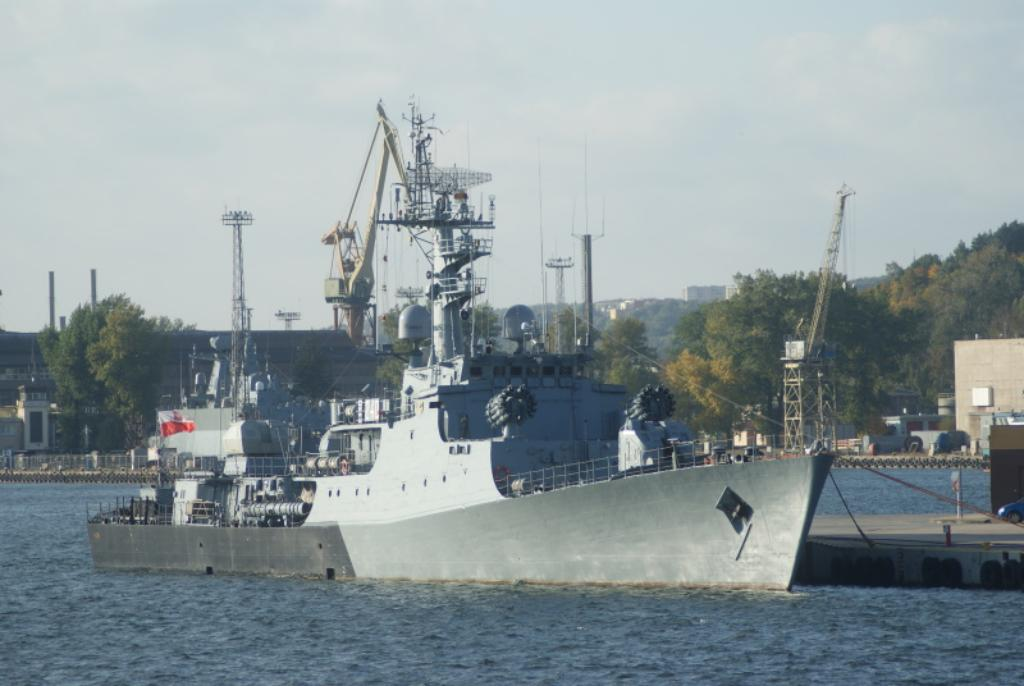Warship: (84, 98, 834, 592)
